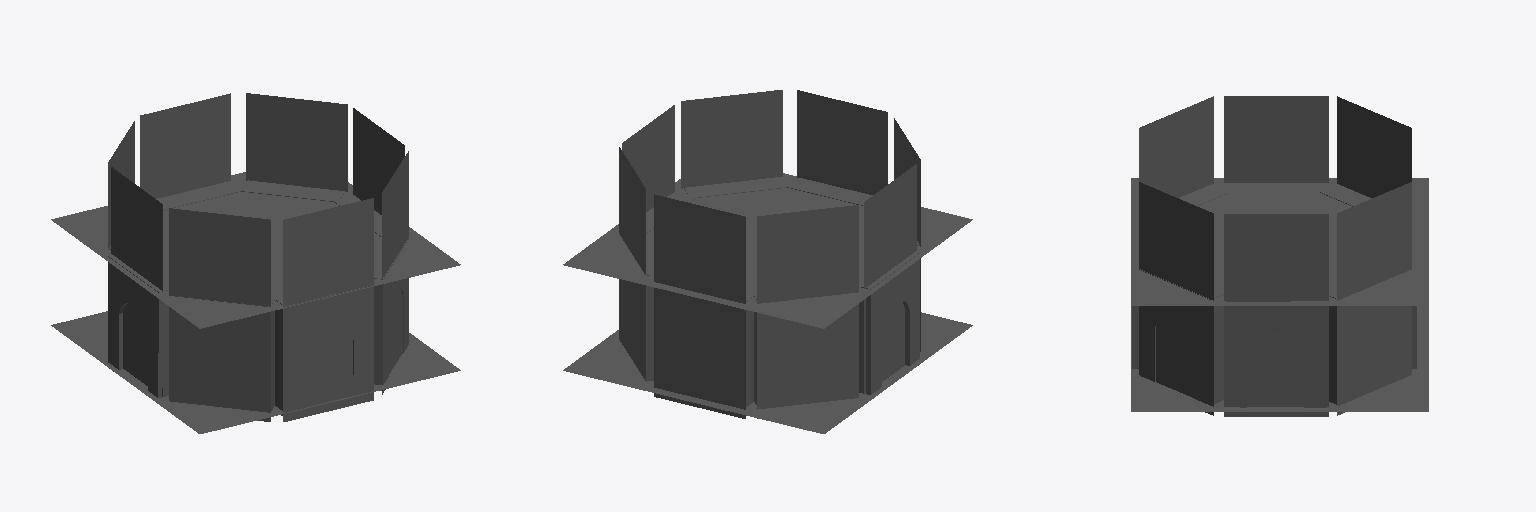
Rendered from cx_int.obj.
3 renders of one model, left to right at view 1: azimuth 30°, elevation 25°; view 2: azimuth 150°, elevation 25°; view 3: azimuth 270°, elevation 25°, orthographic.
Visible parts, largest first — view 1: CX_INT; view 2: CX_INT; view 3: CX_INT.
Boxes of the visible parts, x1,y1,x2,y2 form: CX_INT: [51, 93, 460, 433]; CX_INT: [563, 90, 972, 433]; CX_INT: [1131, 96, 1428, 416].
Bounding box in the file's own units: 123 × 91.28 × 122.